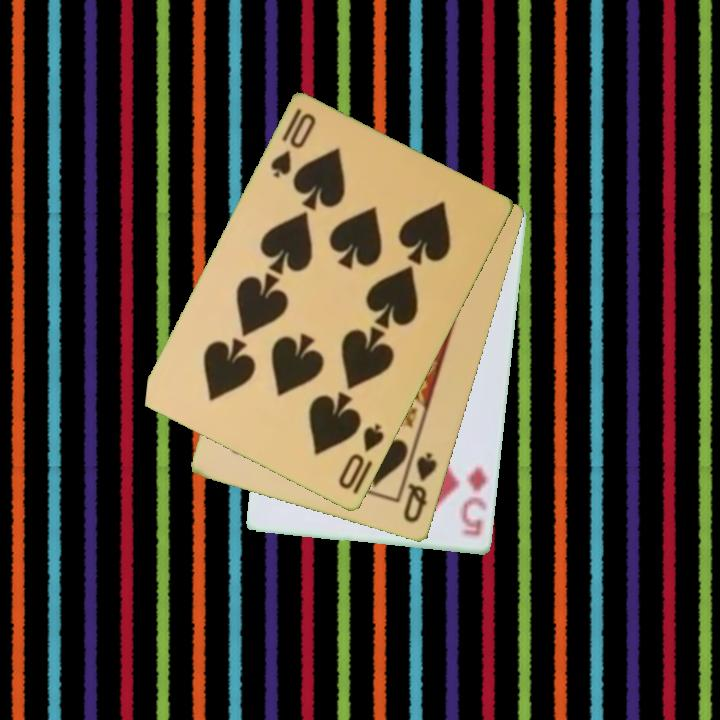10s: (267, 105, 319, 182), (335, 420, 388, 493)
5d: (457, 463, 491, 540)
Qs: (400, 449, 441, 527)
